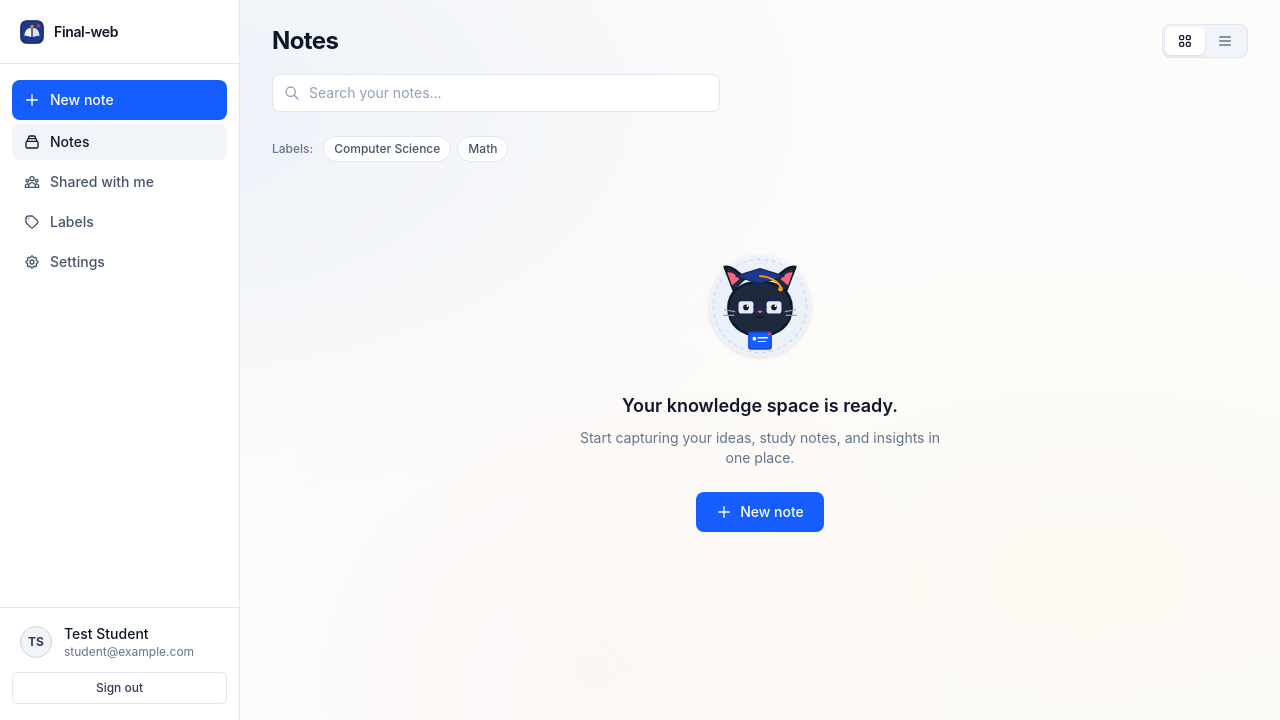
LABEL-01 Label CRUD Management › opens Labels modal via sidebar nav link
This screenshot has width=1280, height=720.
Expected: the element with test id "label-filters-bar" is shown, [272,136,508,162]
Click the button with test id "labels-nav-link" at [120, 222], box [12,204,227,240]
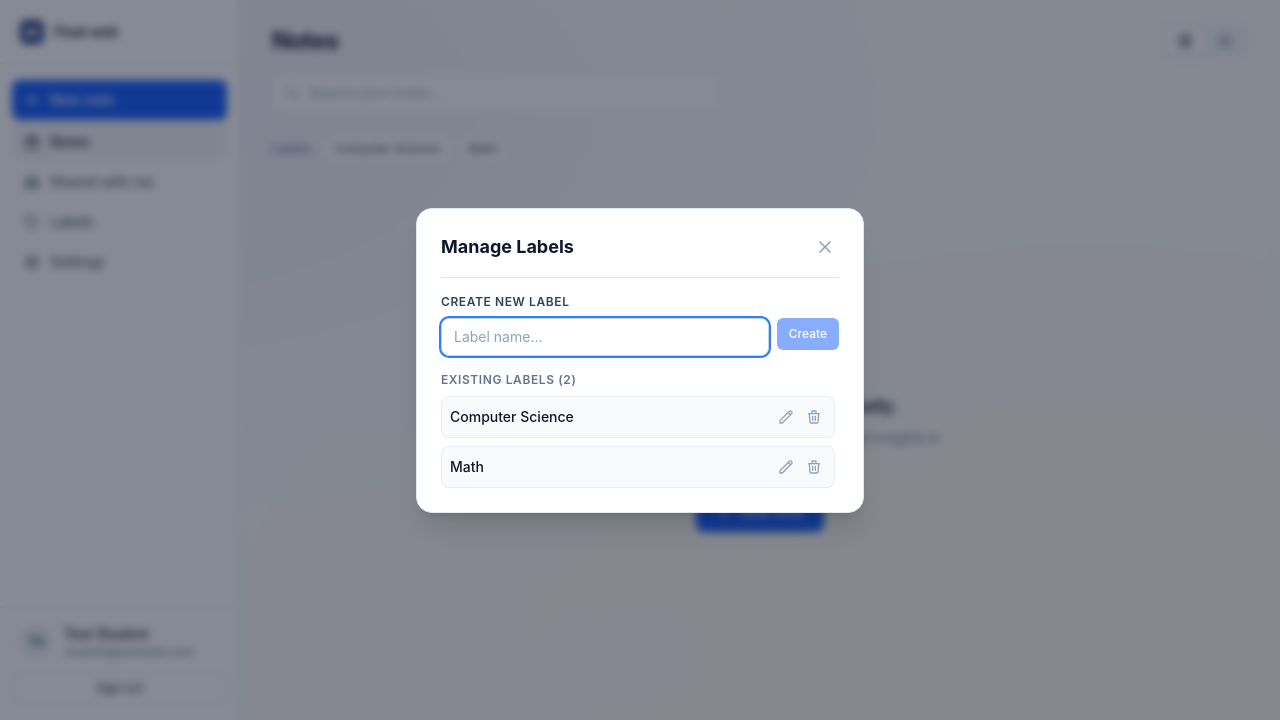
Expected: the dialog with test id "labels-modal" is shown, [416,208,864,512]
Expected: the heading "Manage Labels" is shown, [441,232,574,260]
Expected: the text "Computer Science" is shown, [450,406,574,426]
